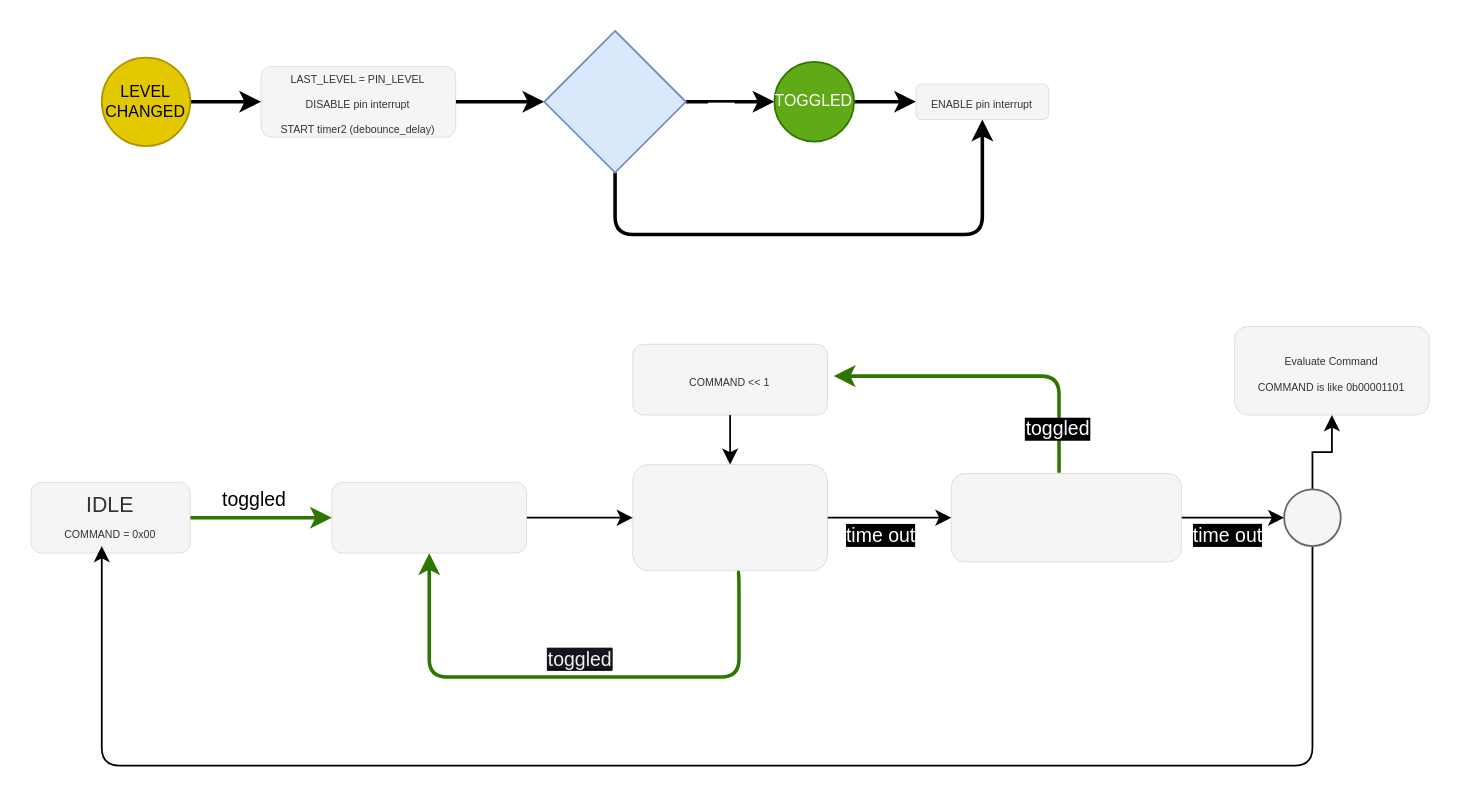
This 1458x811 diagram has some shape labels left out. Here are the shapes that lost their labels. From the top down, the centre of each, then its label:
At [614,101]: "PIN_LEVEL == LAST_LEVEL ?".
At [428,516]: "(COMMAND << 1) + 1".
At [729,517]: "WAIT_SHORT START timer(short_delay)".
At [1065,517]: "WAIT_LONG START timer(long_delay - short_delay)".
